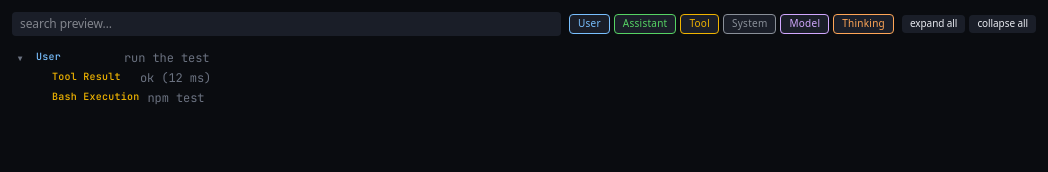
Test: SessionTreeExplorer › bucketizes toolResult / bashExecution under the 'Tool' chip
The width and height of the screenshot is (1048, 172).
Expected: the text "ok (12 ms)" is shown, [140, 70, 211, 86]
Expected: the text "npm test" is shown, [148, 90, 204, 106]
Click the button "Tool" at (700, 24), box [680, 14, 719, 34]
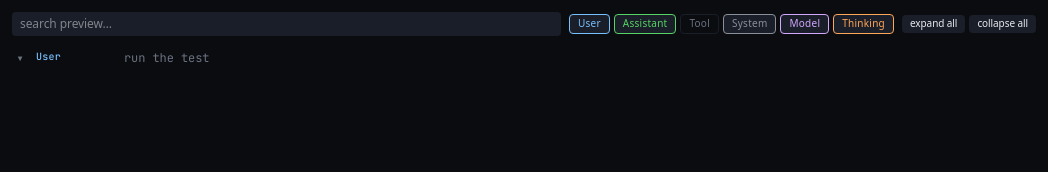
Expected: the text "run the test" is shown, [124, 50, 210, 66]
Expected: the text "ok (12 ms)" is gone
Expected: the text "npm test" is gone
